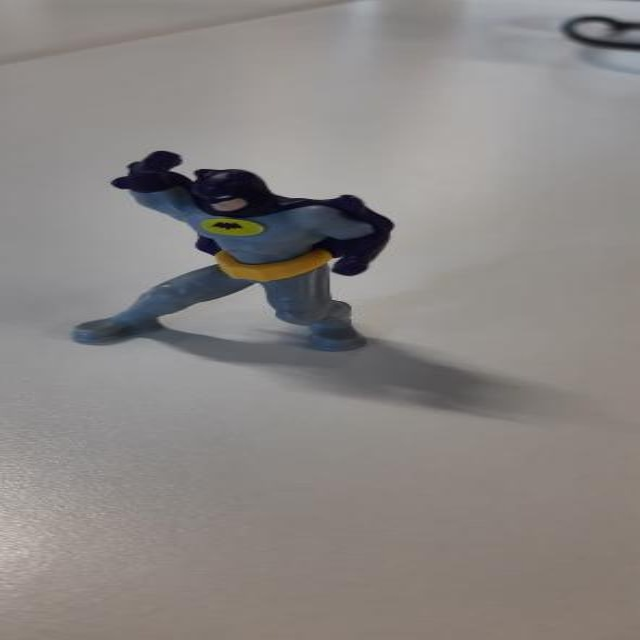Batman: (69, 135, 469, 397)
